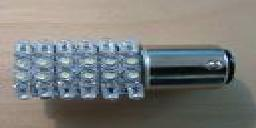LED: (8, 36, 237, 102)
